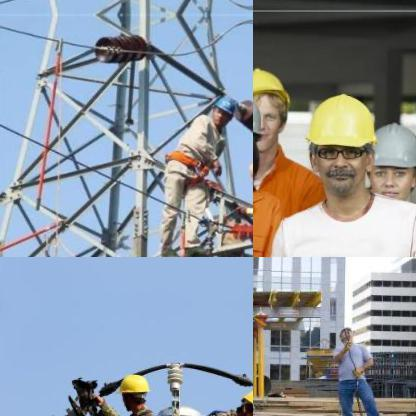Helmet: (306, 92, 374, 192), (366, 119, 415, 202), (253, 65, 289, 150), (116, 368, 152, 408), (208, 89, 242, 125), (234, 386, 252, 415), (337, 323, 351, 342), (245, 154, 252, 189)
